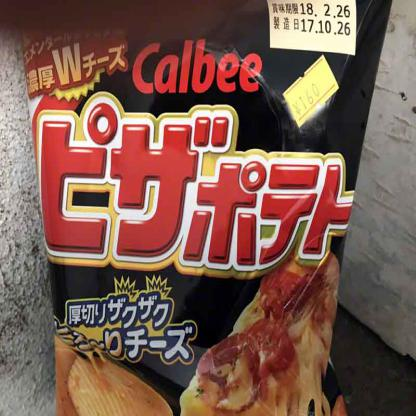potatochip: (19, 0, 396, 415)
